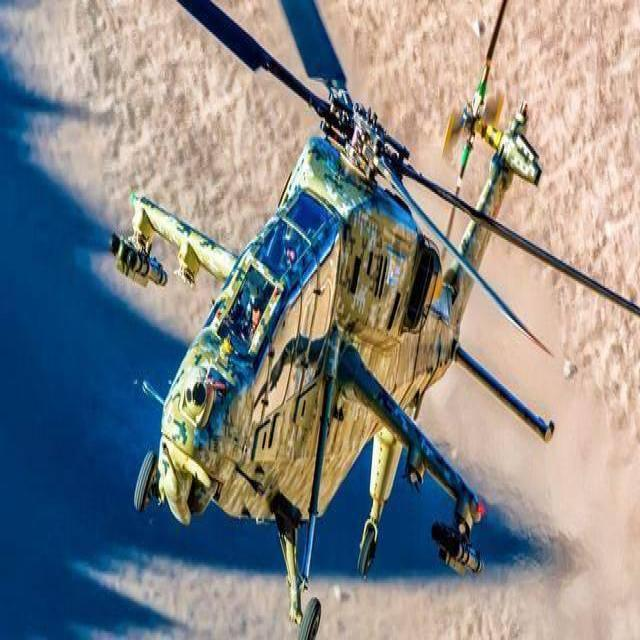MIL_HELO: (102, 0, 640, 640)
